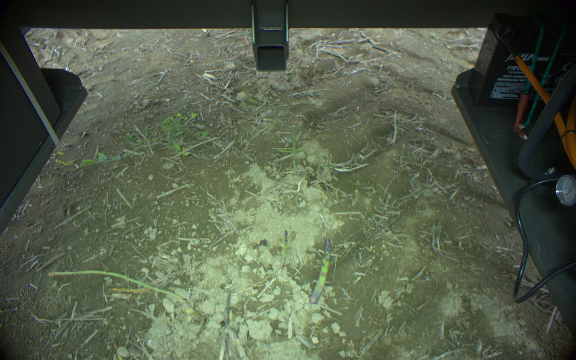aspa: (50, 268, 197, 315), (309, 238, 333, 305), (281, 229, 291, 273)
